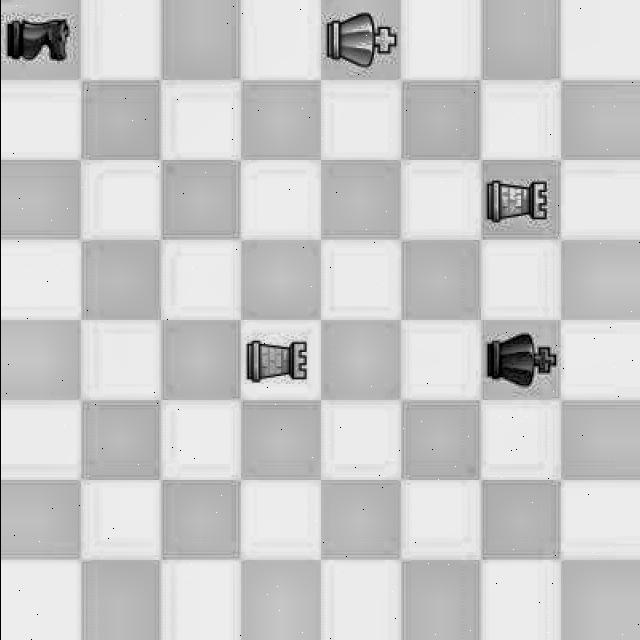Black Knight: (5, 6, 79, 74)
black king: (484, 324, 561, 396)
white king: (322, 11, 398, 81)
white rook: (482, 168, 552, 238), (244, 329, 310, 394)
